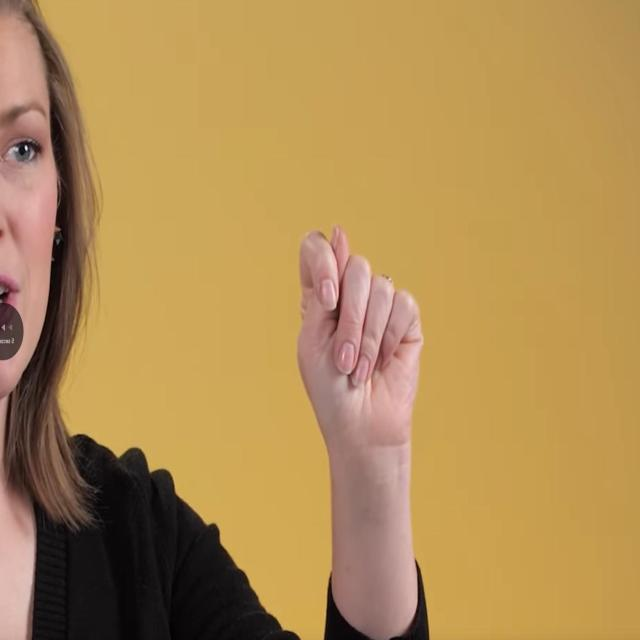T: (287, 219, 428, 448)
